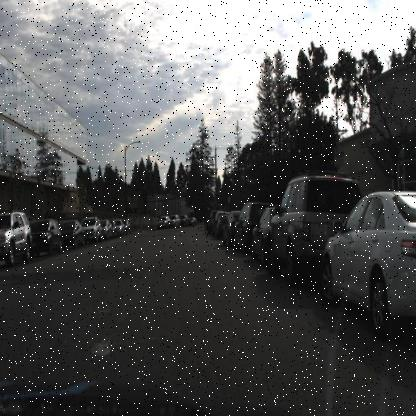car: (318, 191, 416, 331), (265, 171, 322, 282), (0, 207, 34, 270), (250, 204, 272, 270), (30, 217, 63, 258), (231, 200, 253, 252), (58, 220, 83, 252), (62, 215, 83, 250), (83, 213, 103, 246), (98, 217, 114, 240), (156, 212, 172, 231)
